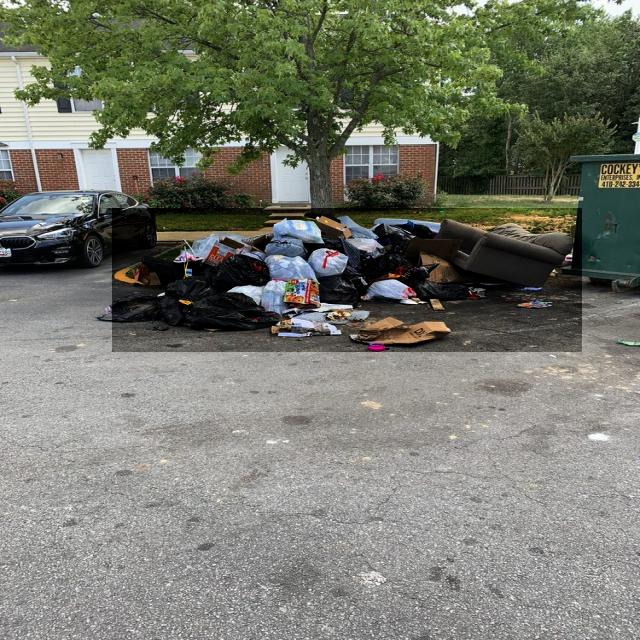dumping: (112, 208, 582, 352)
